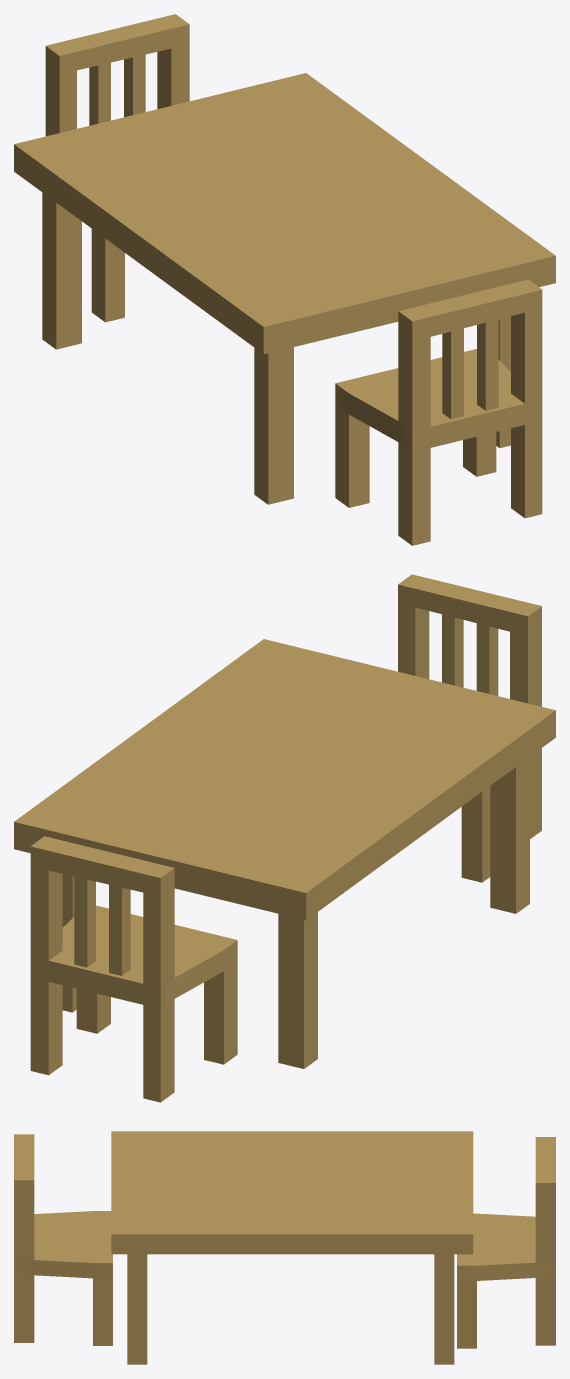
Rendered from Room_Table.fbx.
3 views of the same model, one above another, from view 1: azimuth 30°, elevation 25°; view 2: azimuth 150°, elevation 25°; view 3: azimuth 270°, elevation 25° (orthographic). The views are drawn at different scales.
Visible parts, largest first — view 1: Table01, Chair01, Chair02; view 2: Table01, Chair02, Chair01; view 3: Table01, Chair01, Chair02.
Boxes of the visible parts, bbox=[...] form: Table01: bbox=[14, 73, 555, 504]; Chair01: bbox=[335, 279, 542, 545]; Chair02: bbox=[45, 14, 189, 322]; Table01: bbox=[14, 639, 555, 1068]; Chair02: bbox=[30, 836, 237, 1102]; Chair01: bbox=[398, 574, 541, 882]; Table01: bbox=[111, 1131, 473, 1364]; Chair01: bbox=[14, 1134, 112, 1345]; Chair02: bbox=[457, 1137, 555, 1348].
Bounding box in the file's own units: 1.35 × 0.9945 × 3.
1 material, 1 textured.
